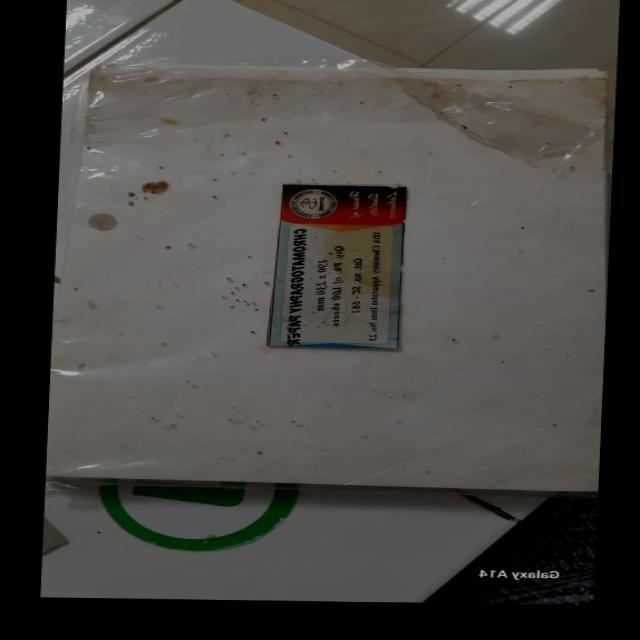Paper Chromatography: (53, 66, 613, 494)
